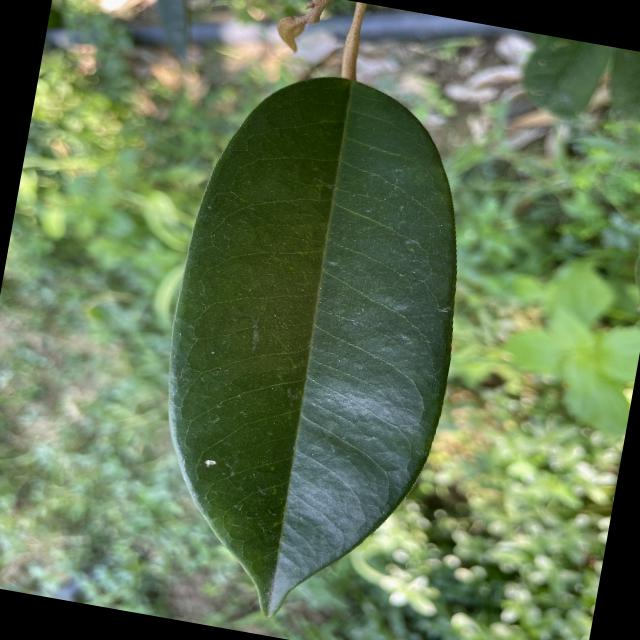No Disease: (118, 44, 507, 639)
